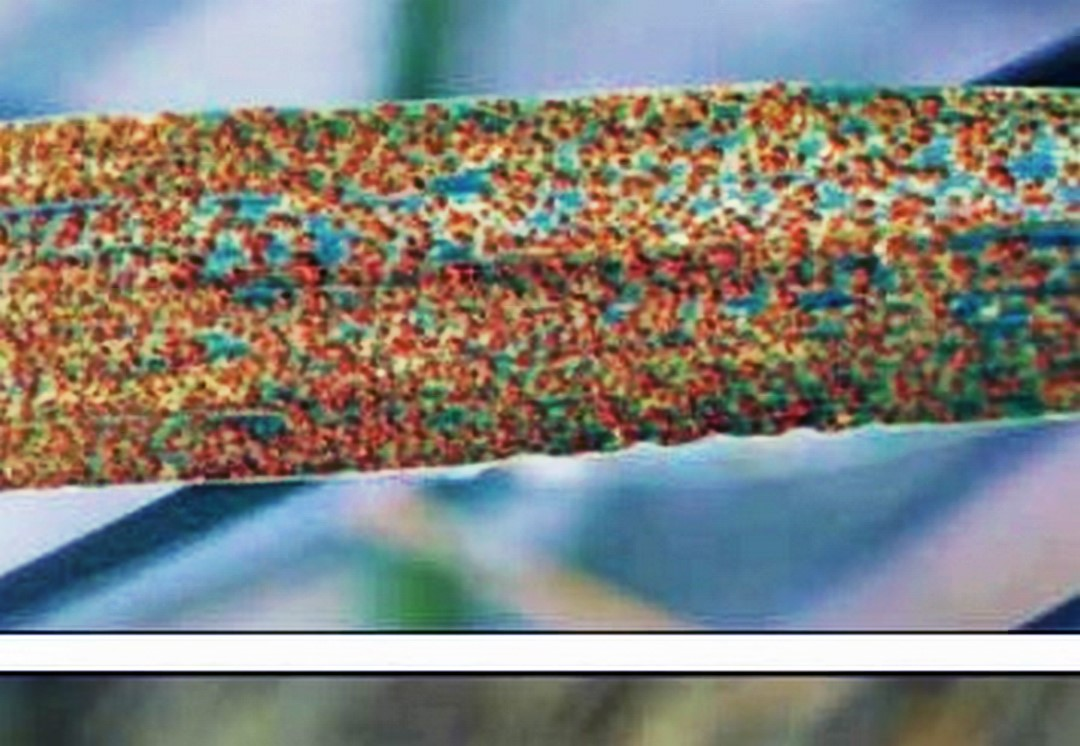Leaf Rust: (11, 81, 1068, 481)
